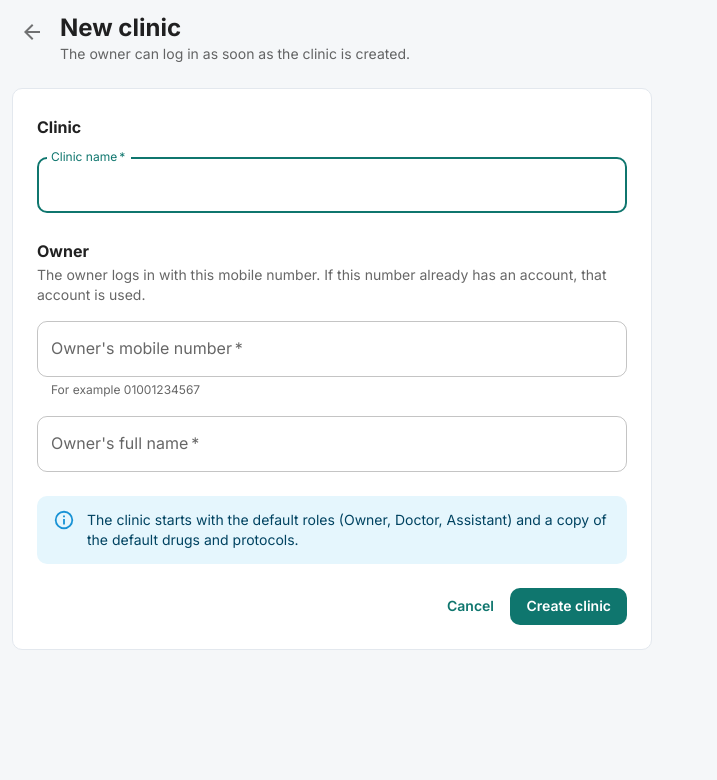
Test: create clinic: validation @area:admin › the 500 in English: "Something went wrong. Please try again." @ADM-064
Type keys "Clinic A"
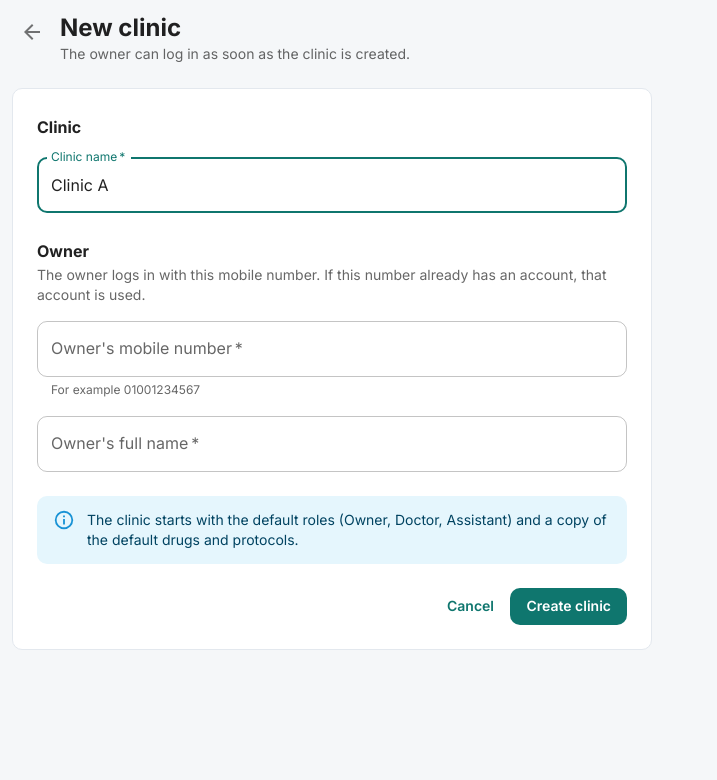
Clear the field labelled "Owner's mobile number *": (332, 349) x1=37 y1=321 x2=627 y2=377
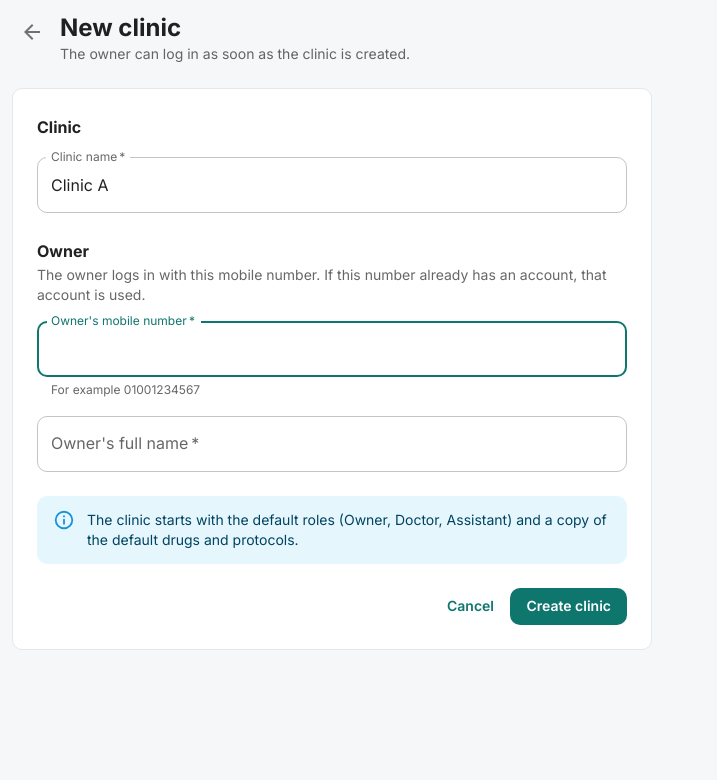
Type keys "01001234567"
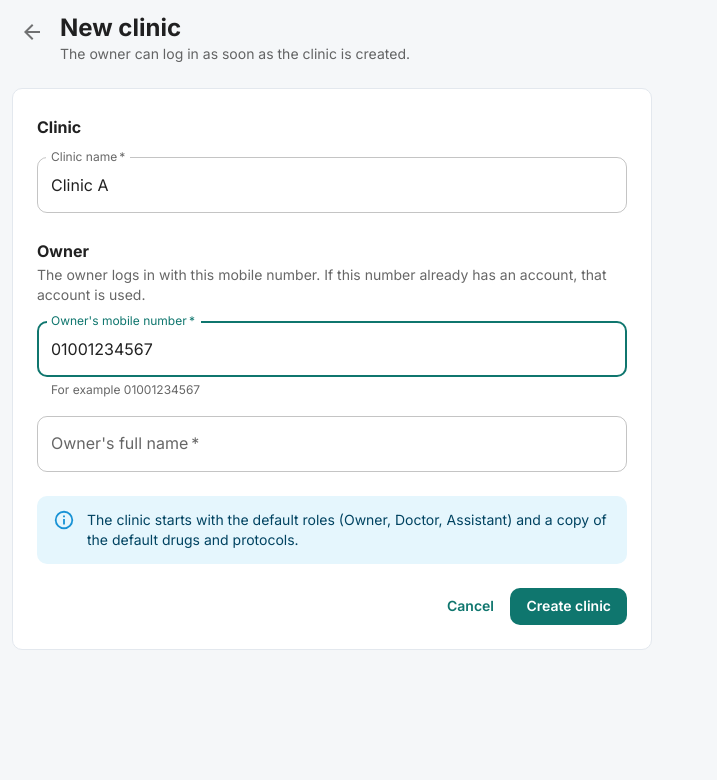
Clear the field labelled "Owner's full name *": (332, 444) x1=37 y1=416 x2=627 y2=472
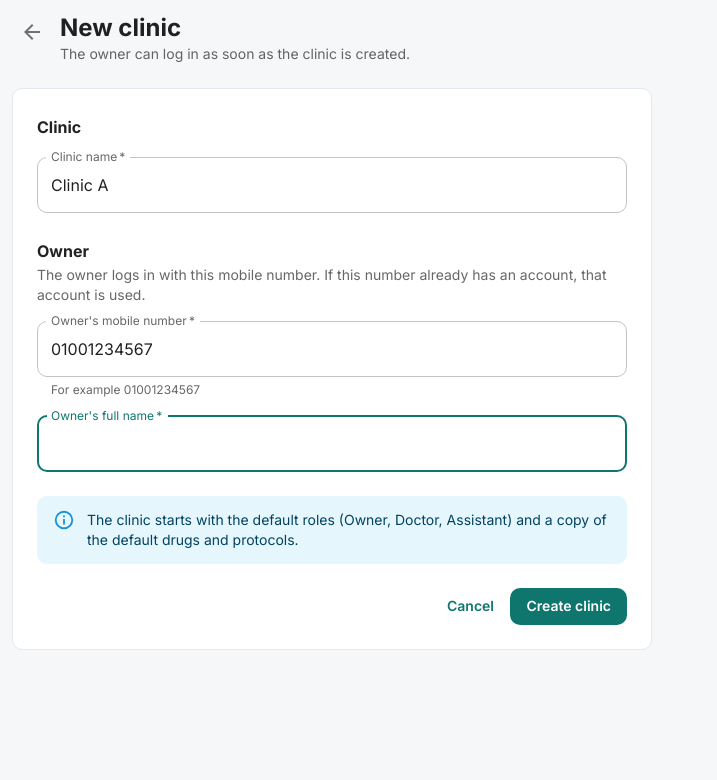
Type keys "Sara"
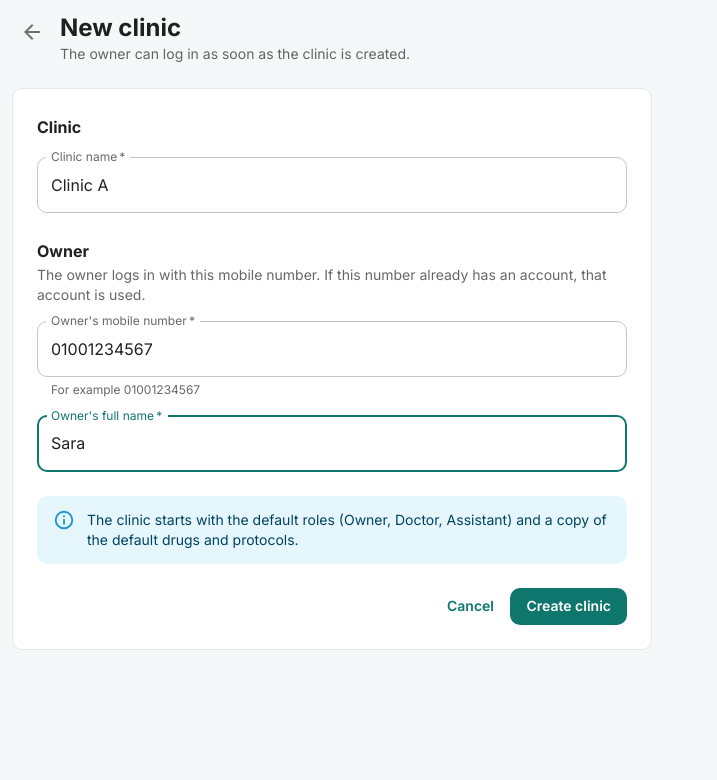
Click the button "Create clinic": click(569, 606) x1=510 y1=588 x2=627 y2=624
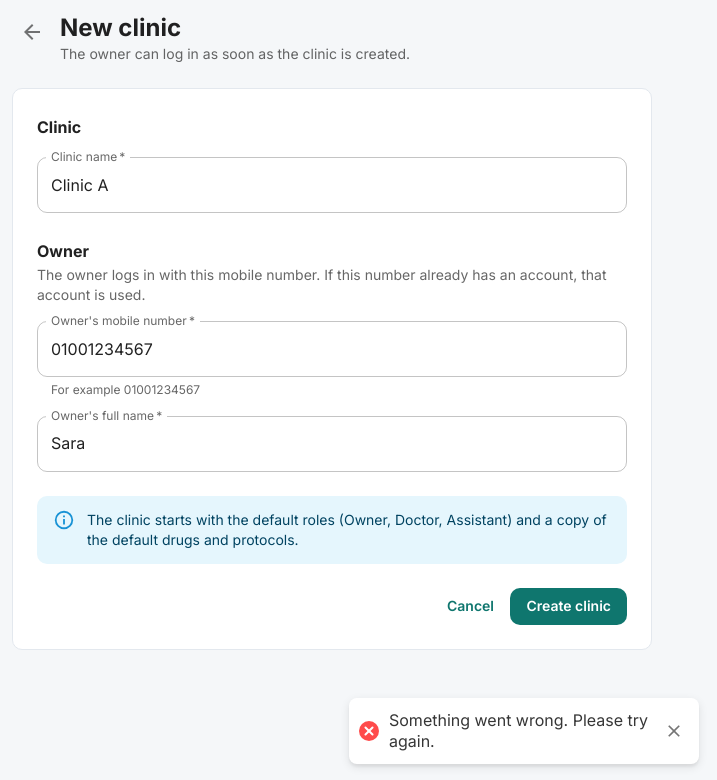
Expected: the message "Something went wrong. Please try again." is shown, x1=389 y1=710 x2=649 y2=752
